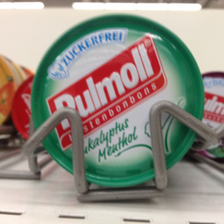candy: (30, 11, 206, 190)
